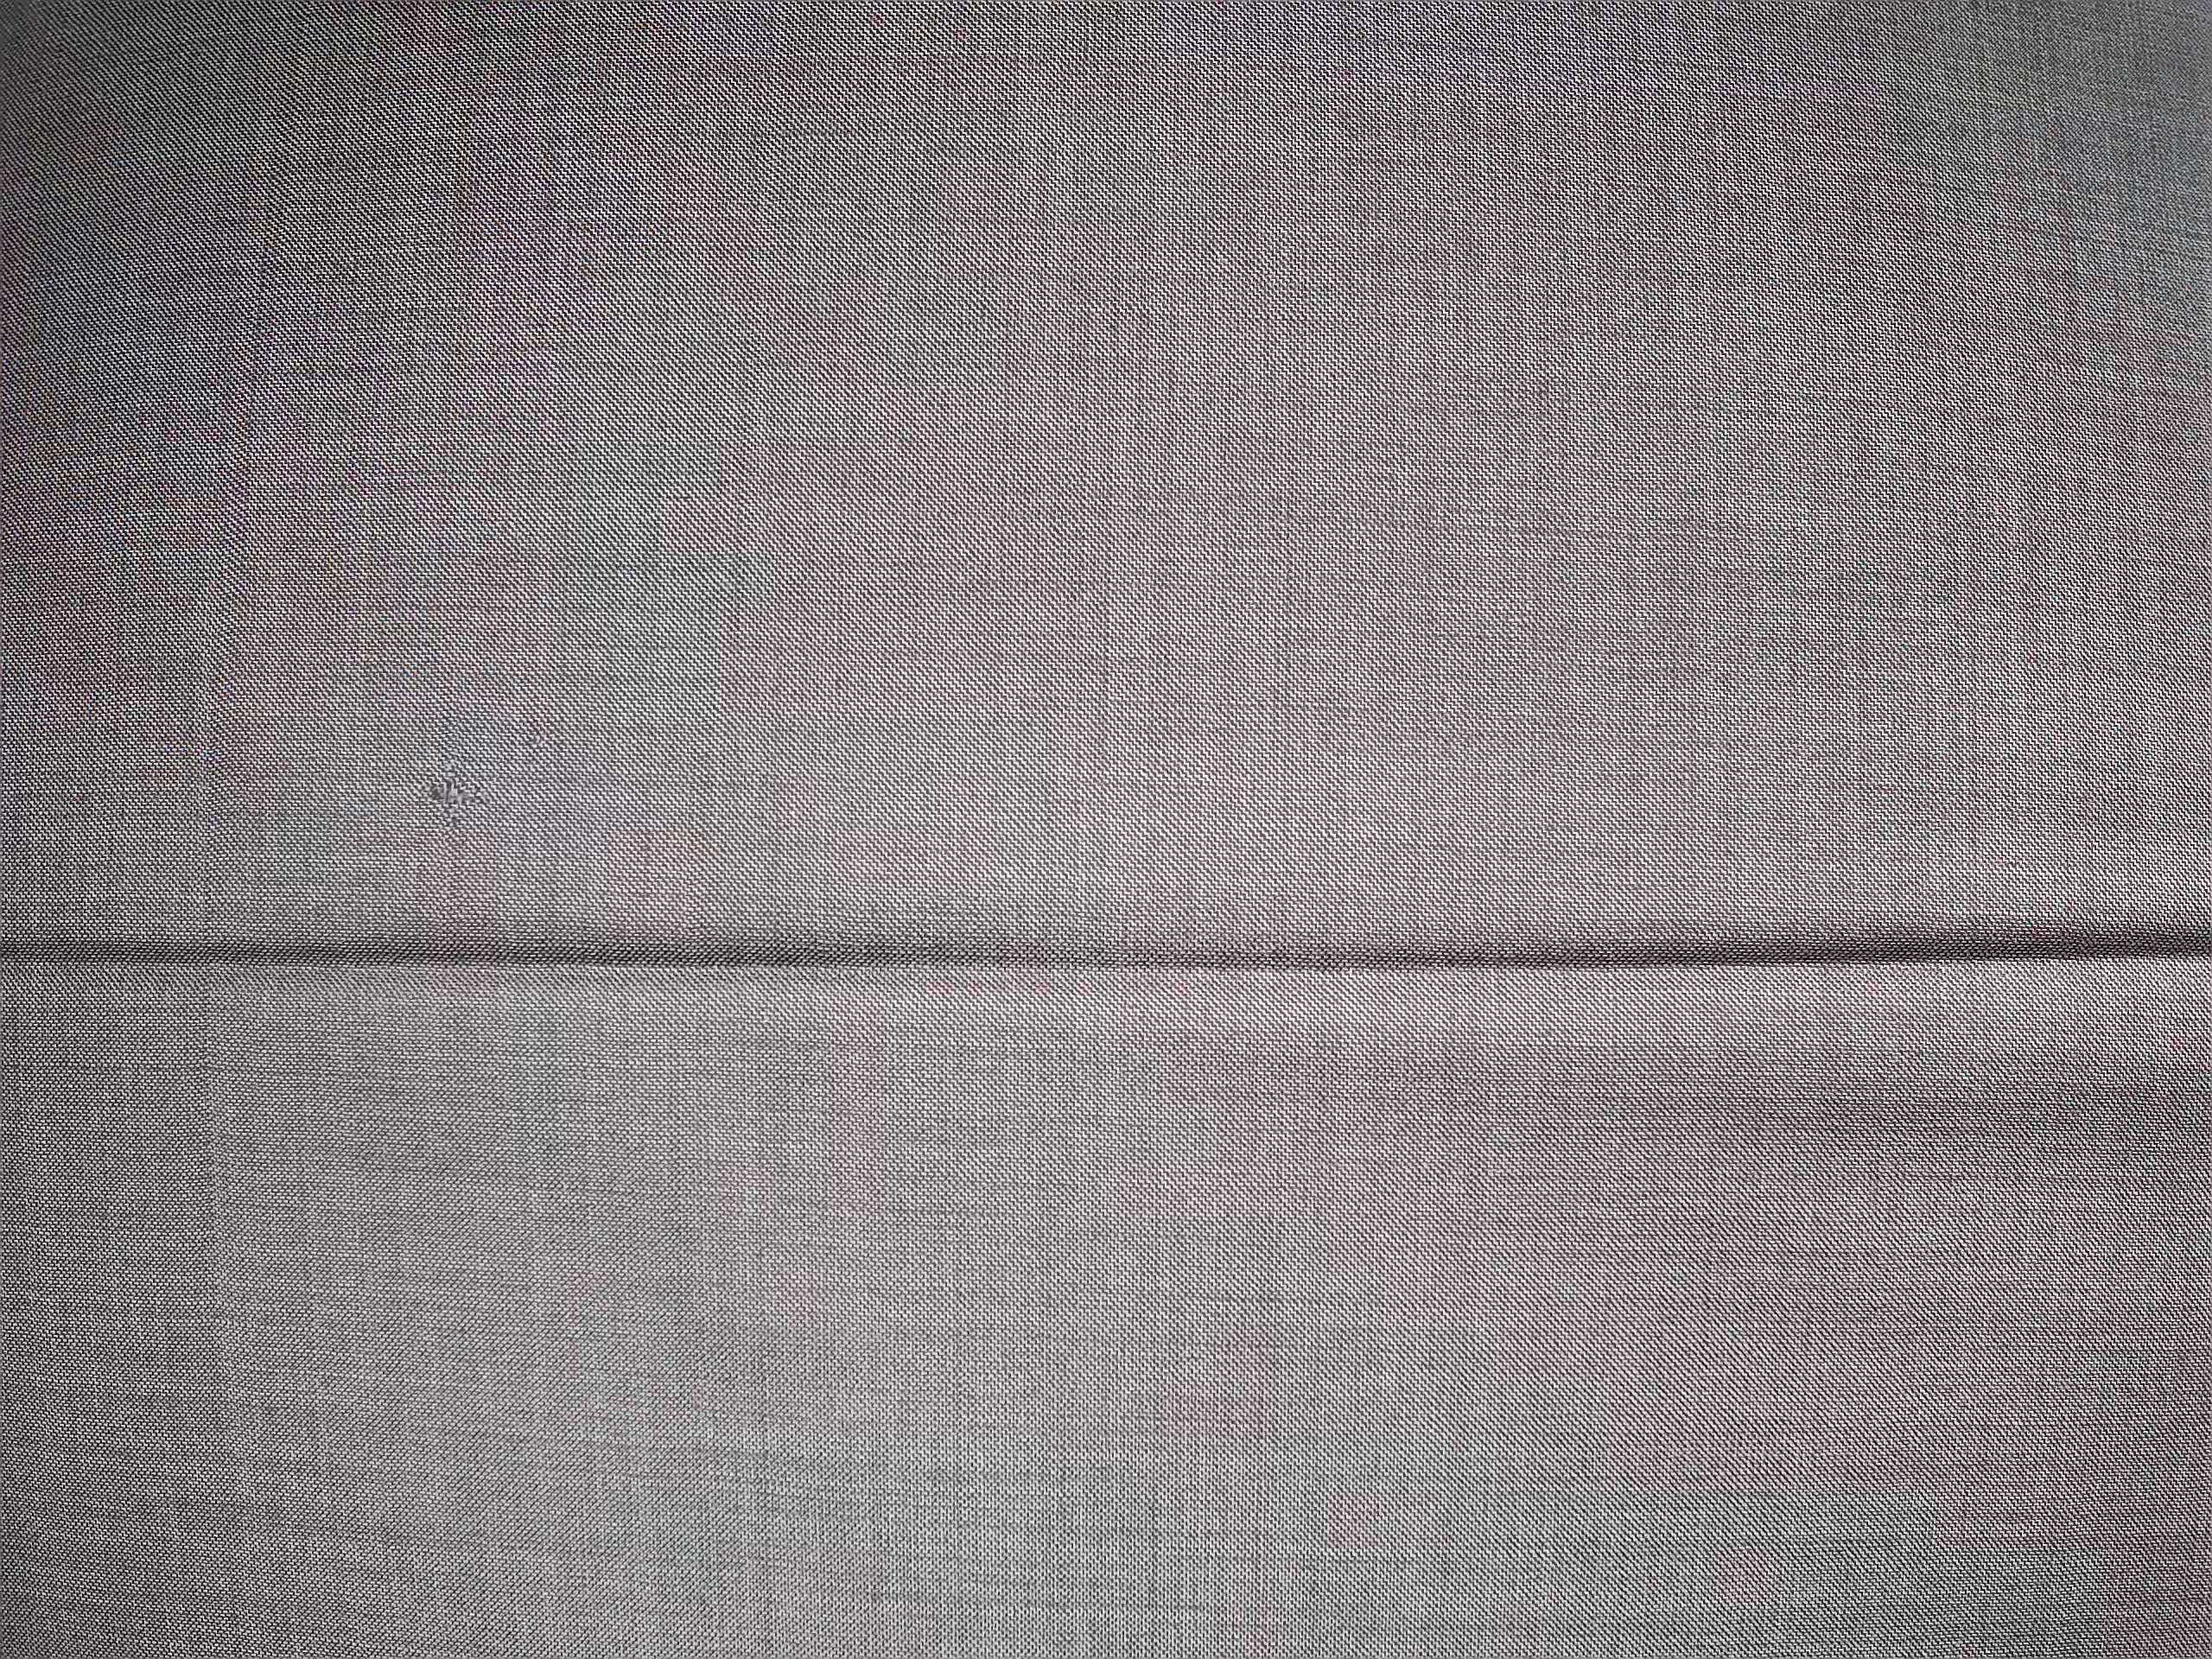knots: (402, 756, 500, 835)
